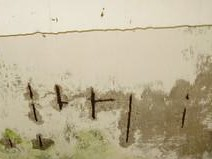Crack: (1, 24, 212, 37)
Exposed reinforcement: (126, 94, 133, 143), (55, 85, 63, 111), (31, 103, 38, 122), (91, 89, 95, 119), (181, 107, 186, 129), (27, 84, 34, 99), (95, 99, 116, 103), (38, 135, 43, 147), (8, 138, 13, 148), (61, 101, 69, 105), (186, 93, 189, 100)
Spalling: (119, 53, 212, 159), (71, 86, 118, 120), (49, 84, 70, 112), (1, 128, 23, 153), (29, 131, 56, 151), (26, 101, 45, 125), (23, 82, 40, 101)
